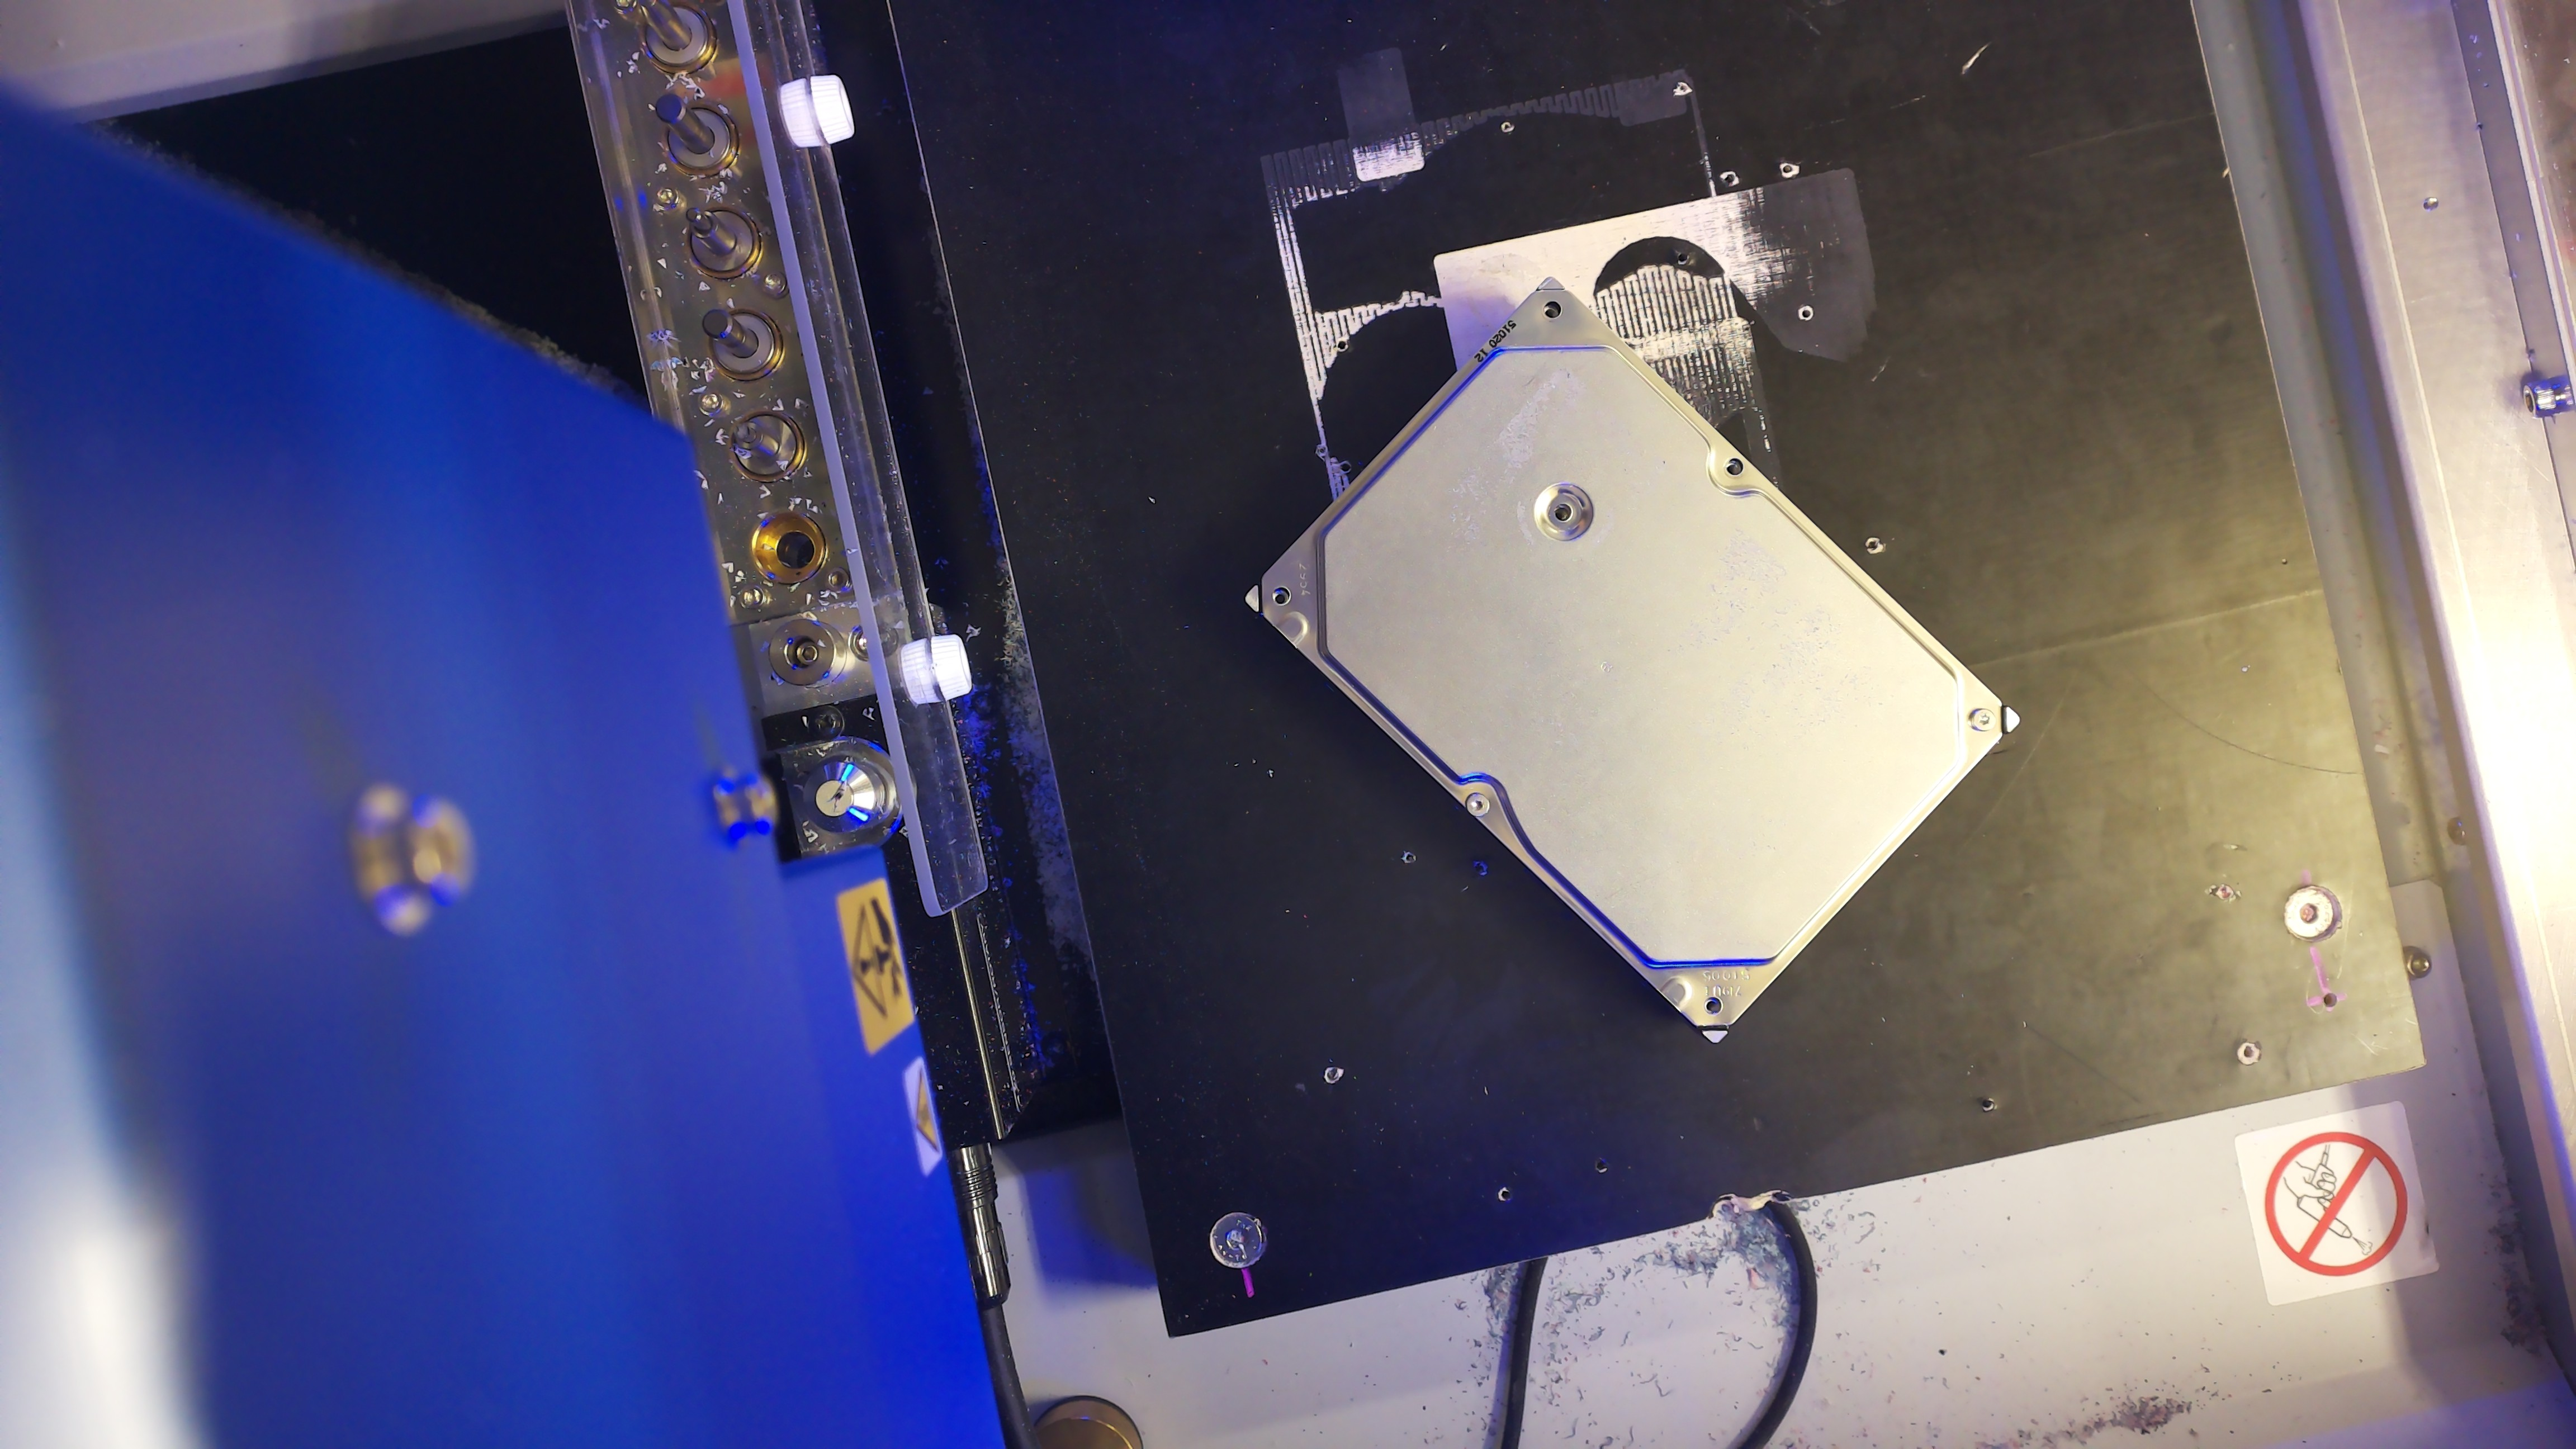Hole: (1270, 586, 1292, 607), (1723, 456, 1744, 478), (1552, 502, 1573, 522), (1543, 299, 1562, 320), (1704, 996, 1723, 1016)
Screw: (1465, 793, 1490, 817), (1969, 708, 1996, 731)
